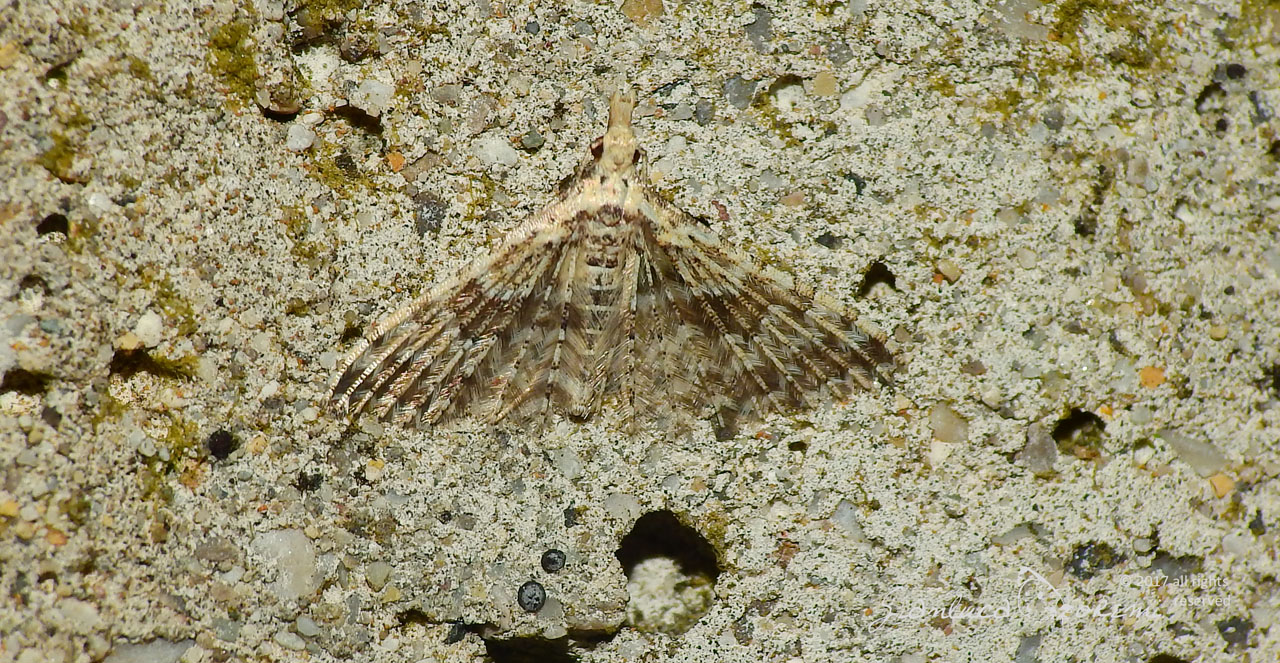Alucitidae: (312, 105, 948, 454)
moth: (310, 103, 946, 452)
